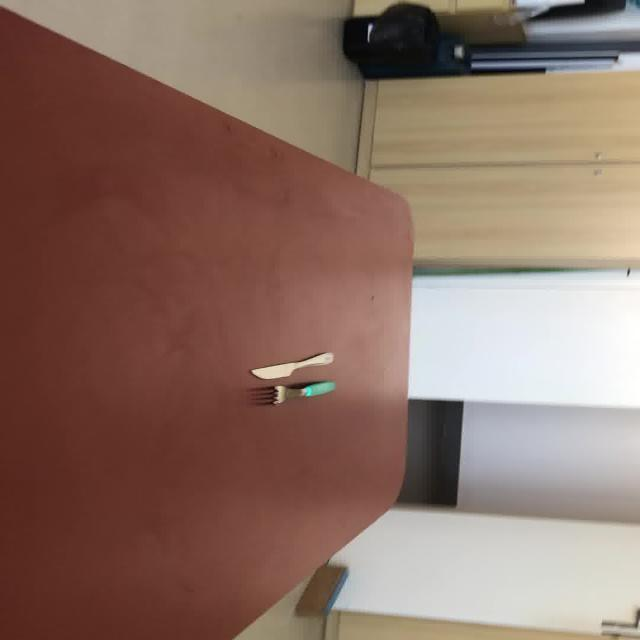fork: (246, 380, 336, 406)
knife fork: (248, 351, 333, 379)
